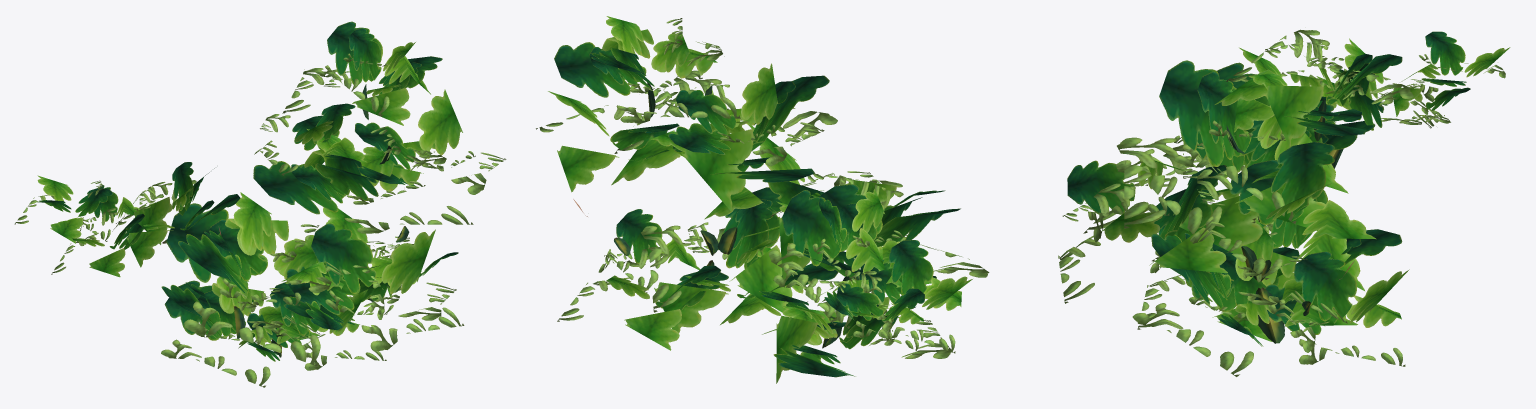
Rendered from S_Tree_Red006.FBX.
The picture shows the model from 3 angles, left to right: view 1: azimuth 30°, elevation 25°; view 2: azimuth 150°, elevation 25°; view 3: azimuth 270°, elevation 25°; orthographic projection. The views are drawn at different scales.
Visible parts, largest first — view 1: DS_Tree_Yellow045; view 2: DS_Tree_Yellow045; view 3: DS_Tree_Yellow045.
Boxes of the visible parts, left/top/right/bottom form: DS_Tree_Yellow045: left=14, top=21, right=506, bottom=387; DS_Tree_Yellow045: left=536, top=16, right=989, bottom=383; DS_Tree_Yellow045: left=1058, top=29, right=1510, bottom=376.
Size of the model in its own units: 1234 by 964 by 774.
